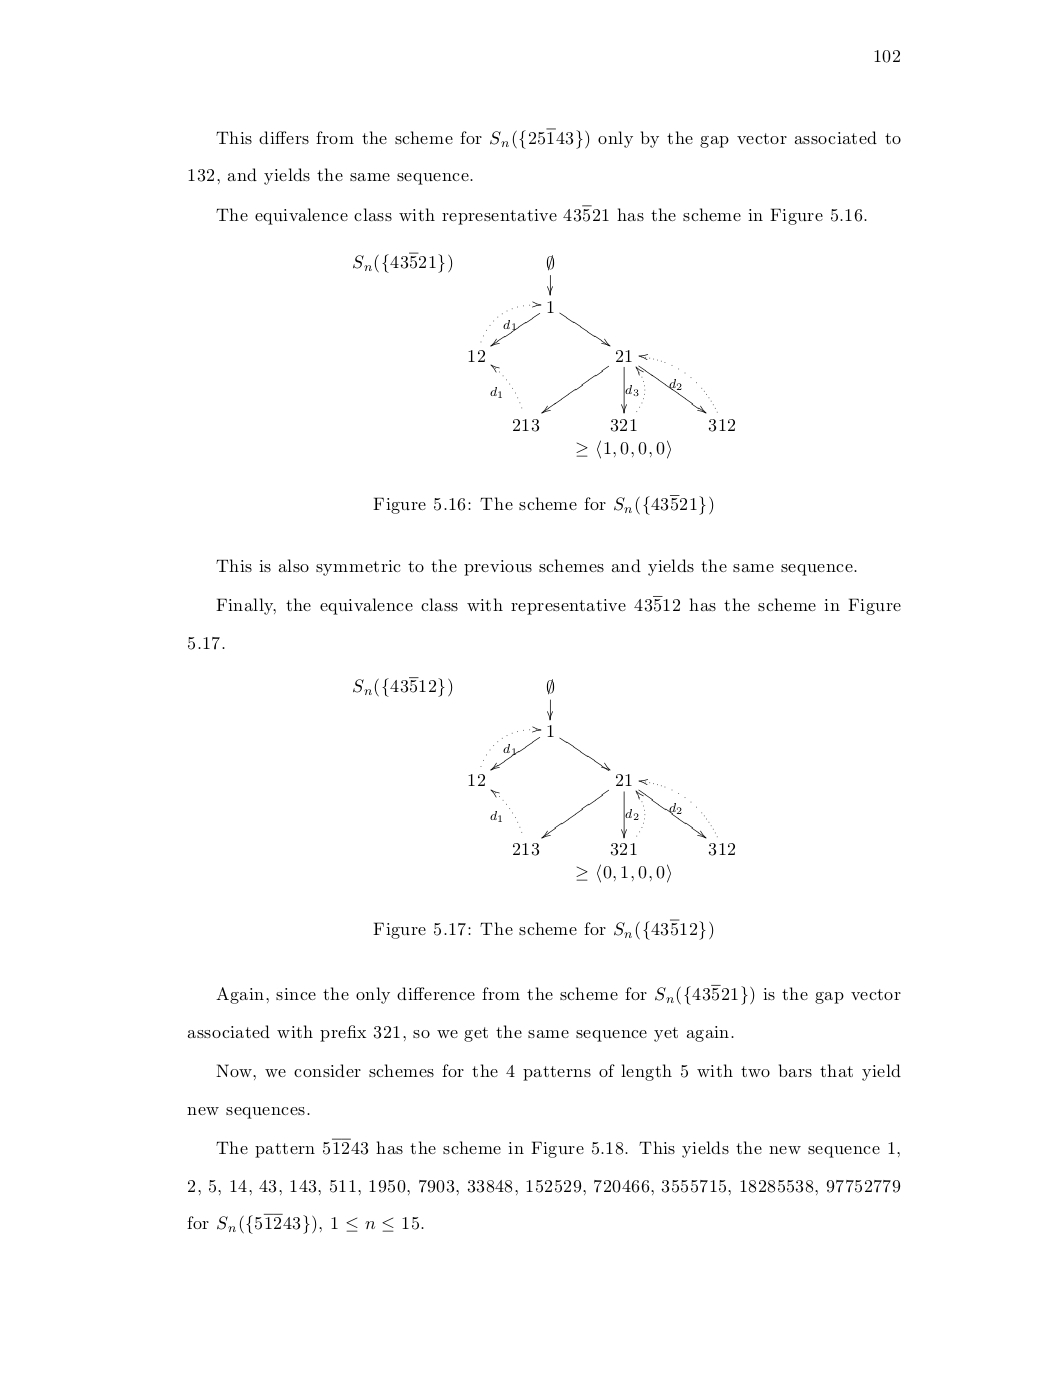figure: (353, 252, 734, 458), (353, 676, 734, 882)
